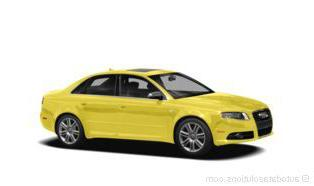Car: (34, 63, 278, 164)
